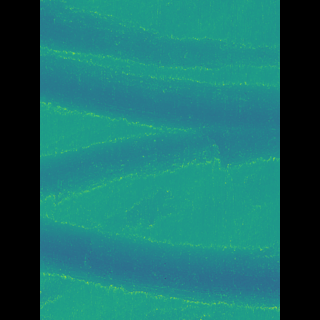Loch: (70, 0, 251, 128), (69, 216, 249, 314), (70, 126, 249, 207)
